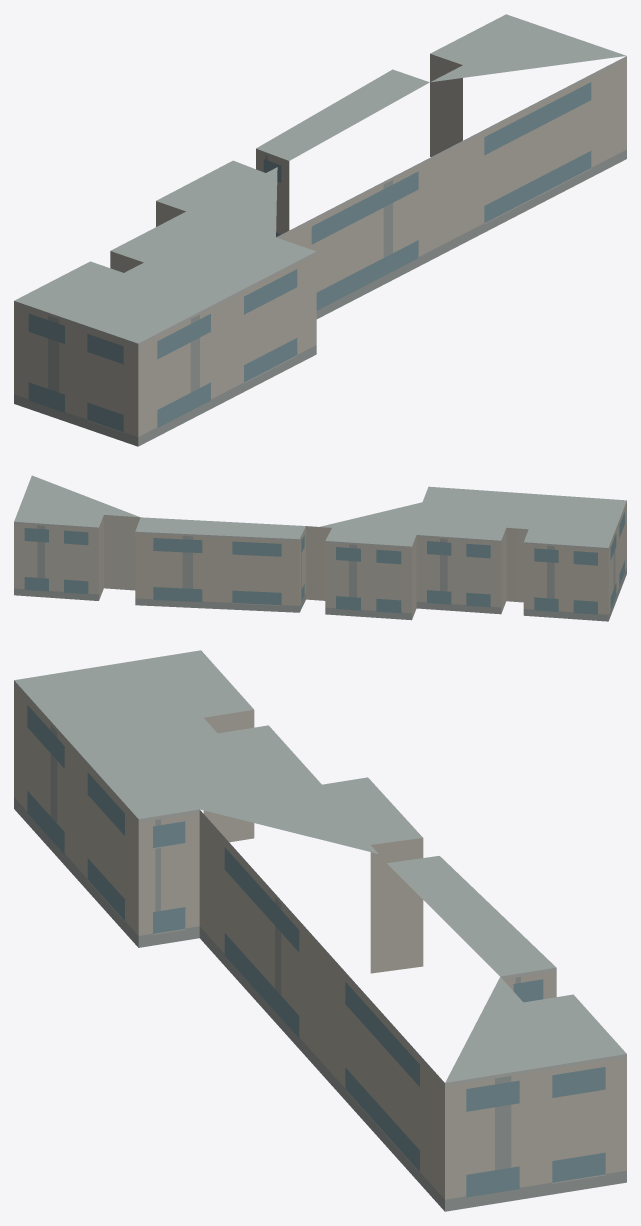
File: residential-d1713208-b144-4530-b6bb-5a7f6c1a440a.glb
The picture shows the model from 3 angles, top to bottom: view 1: azimuth 30°, elevation 25°; view 2: azimuth 150°, elevation 25°; view 3: azimuth 270°, elevation 25°; orthographic projection. The views are drawn at different scales.
Visible parts, largest first — view 1: residential-d1713208-b144-4530-b6bb-5a7f6c1a440a.tmp; view 2: residential-d1713208-b144-4530-b6bb-5a7f6c1a440a.tmp; view 3: residential-d1713208-b144-4530-b6bb-5a7f6c1a440a.tmp.
Part boxes in pixels (<box>): residential-d1713208-b144-4530-b6bb-5a7f6c1a440a.tmp: <box>14,14,626,446</box>; residential-d1713208-b144-4530-b6bb-5a7f6c1a440a.tmp: <box>14,475,626,621</box>; residential-d1713208-b144-4530-b6bb-5a7f6c1a440a.tmp: <box>14,650,626,1211</box>.
Size of the model in its own units: 66.02 by 9.15 by 39.51.
